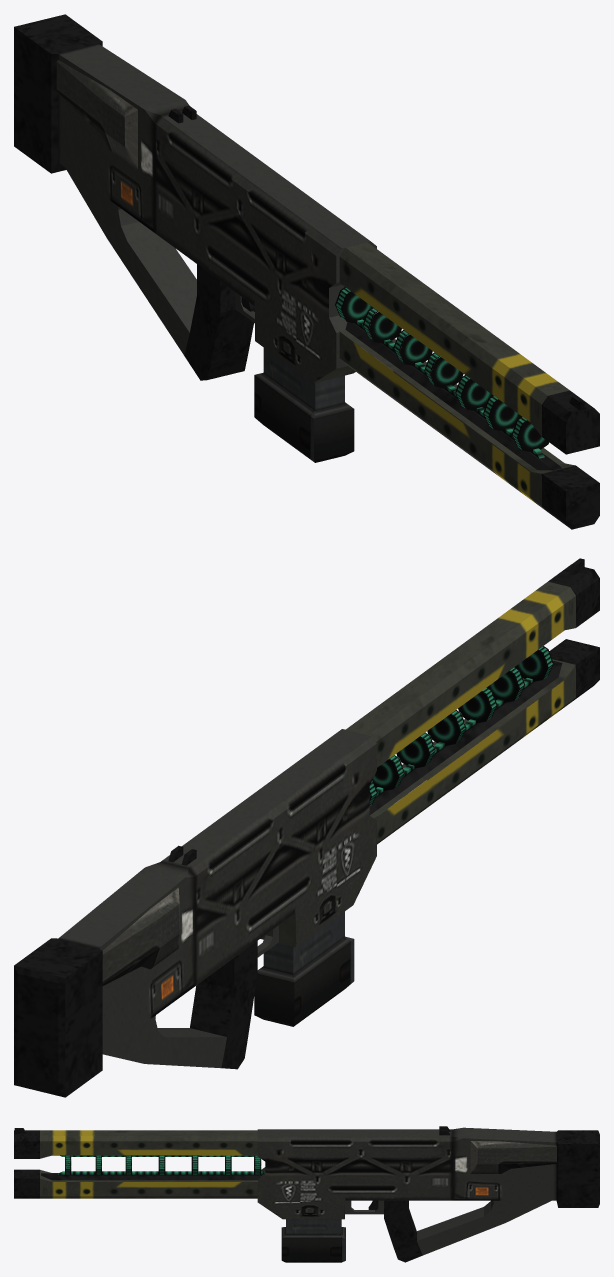
The model's file is railgun.glb.
The picture shows the model from 3 angles, top to bottom: view 1: azimuth 30°, elevation 25°; view 2: azimuth 150°, elevation 25°; view 3: azimuth 270°, elevation 25°; orthographic projection. The views are drawn at different scales.
Visible parts, largest first — view 1: Cube.001, Cube, Cube.003, Cube.004, Cylinder, Cube.005, Cube.008; view 2: Cube.001, Cube, Cube.003, Cube.004, Cylinder, Cube.005, Cube.008; view 3: Cube.001, Cube, Cube.003, Cube.004, Cube.005, Cube.008, Cube.006, Cylinder, Cube.002.
Part boxes in pixels (x1,y1,x2,y2): Cube.001: [14, 14, 376, 383]; Cube: [339, 242, 599, 529]; Cube.003: [65, 168, 254, 380]; Cube.004: [254, 348, 354, 462]; Cylinder: [335, 287, 548, 452]; Cube.005: [56, 60, 137, 170]; Cube.008: [345, 322, 561, 470]; Cube.001: [14, 729, 376, 1097]; Cube: [346, 564, 599, 844]; Cube.003: [103, 941, 257, 1069]; Cube.004: [254, 911, 354, 1026]; Cylinder: [369, 646, 553, 806]; Cube.005: [102, 887, 179, 985]; Cube.008: [369, 661, 562, 815]; Cube.001: [257, 1127, 599, 1219]; Cube: [14, 1130, 257, 1198]; Cube.003: [384, 1200, 551, 1262]; Cube.004: [281, 1219, 345, 1262]; Cube.005: [470, 1141, 556, 1173]; Cube.008: [41, 1173, 260, 1180]; Cube.006: [58, 1155, 265, 1175]; Cylinder: [65, 1155, 261, 1174]; Cube.002: [345, 1200, 383, 1214].
Size of the model in its own units: 2.7 by 11.38 by 46.48.
Materials: 1 (1 with a texture image).
